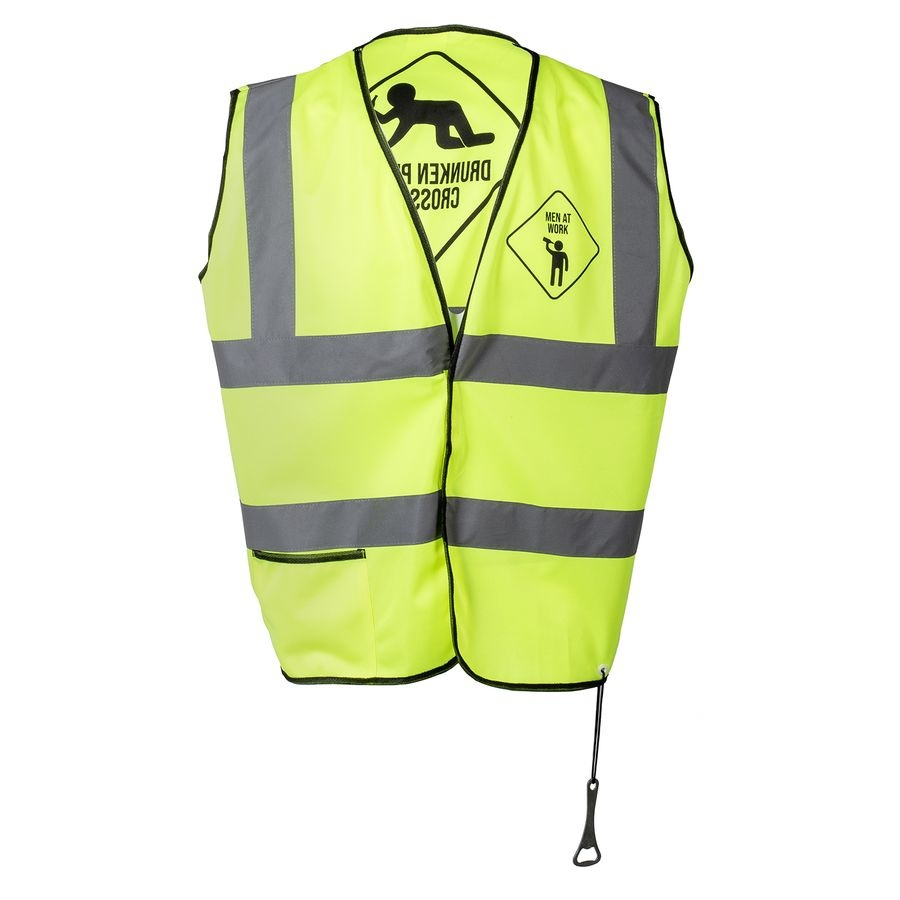safety vest: (202, 26, 687, 692)
